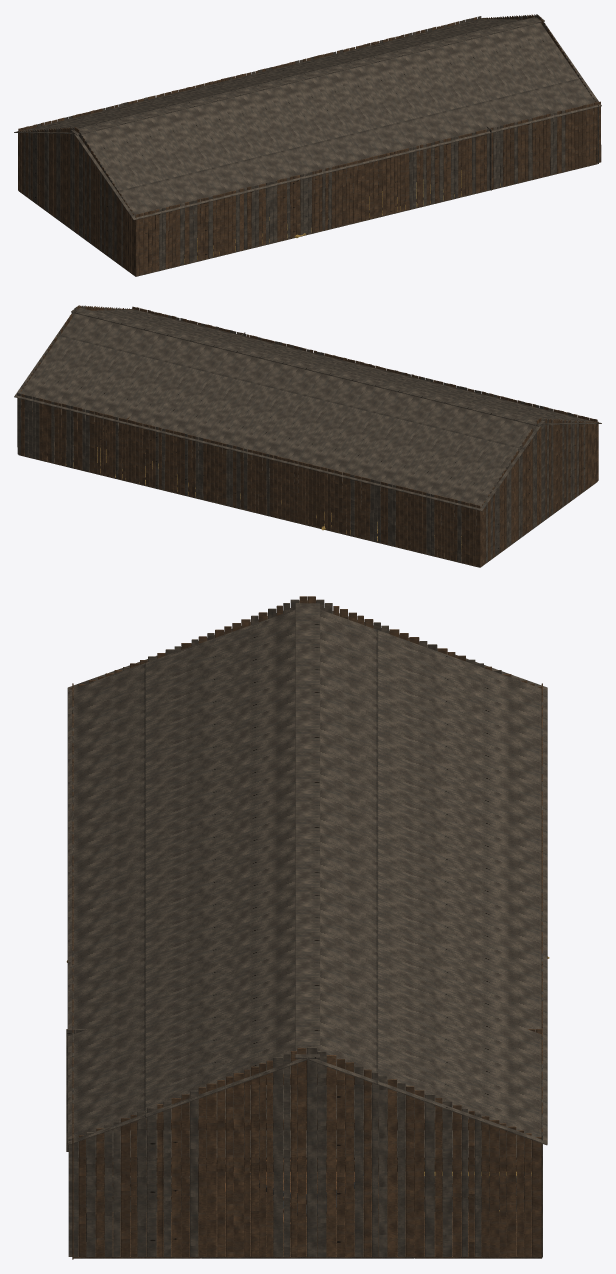
The model's file is Grange.glb.
3 renders of one model, top to bottom at view 1: azimuth 30°, elevation 25°; view 2: azimuth 150°, elevation 25°; view 3: azimuth 270°, elevation 25°, orthographic. The views are drawn at different scales.
Visible parts, largest first — view 1: Toit_BoisGris, Murs_Planche, Murs_BoisGris, Sol_Terre; view 2: Toit_BoisGris, Murs_Planche, Murs_BoisGris, Sol_Terre; view 3: Toit_BoisGris, Murs_Planche, Murs_BoisGris, Salle_Planche, Salle_BoisGris, Enclos_BoisGris.
Part boxes in pixels (<box>): Toit_BoisGris: <box>14,17,601,220</box>; Murs_Planche: <box>18,14,601,276</box>; Murs_BoisGris: <box>23,14,598,269</box>; Sol_Terre: <box>18,164,597,276</box>; Toit_BoisGris: <box>14,308,601,511</box>; Murs_Planche: <box>20,305,598,566</box>; Murs_BoisGris: <box>17,305,585,562</box>; Sol_Terre: <box>19,455,597,567</box>; Toit_BoisGris: <box>67,600,547,1145</box>; Murs_Planche: <box>70,596,542,1259</box>; Murs_BoisGris: <box>68,599,542,1257</box>; Salle_Planche: <box>73,1029,541,1258</box>; Salle_BoisGris: <box>66,1029,531,1157</box>; Enclos_BoisGris: <box>86,1159,531,1211</box>.
Bounding box in the file's own units: 30.43 × 6.56 × 13.6.
10 materials, 9 textured.
